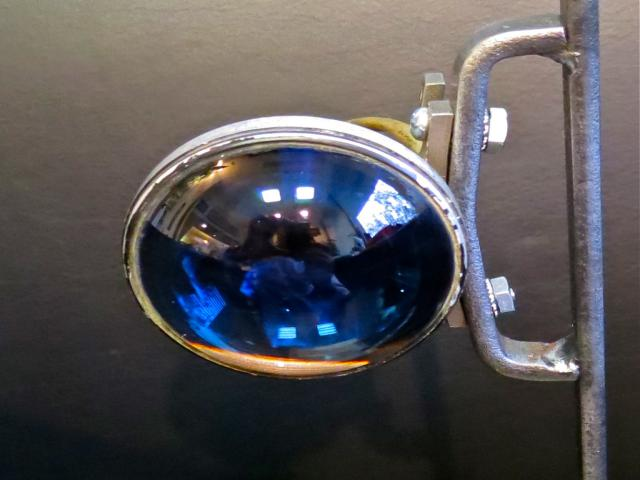Door-handle: (121, 13, 586, 393)
